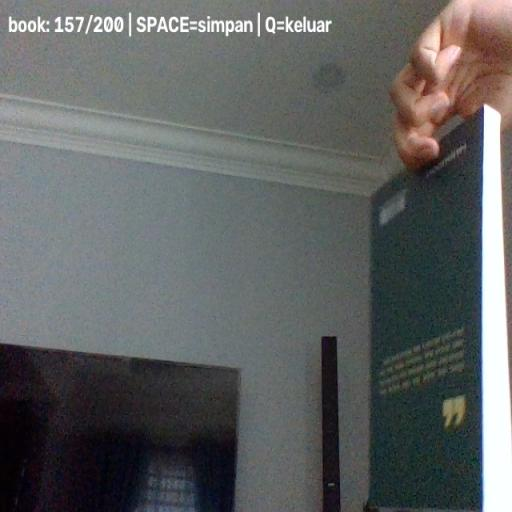Book: (366, 103, 512, 512)
